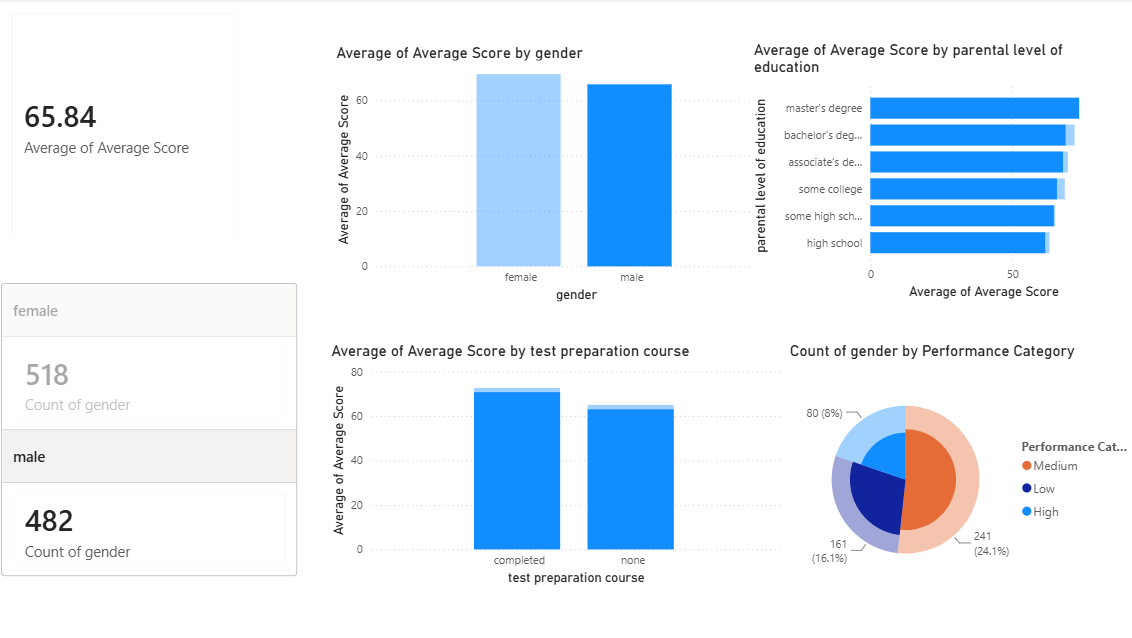

The dashboard page shown, as its layout file describes it:
{"tool":"powerbi","page":{"name":"Page 1","canvas":[1280,720],"ordinal":0},"visuals":[{"type":"cardVisual","fields":{"Data":["Avg(StudentsPerformance.Average Score)"]},"box":[10,0,280,280],"z":0},{"type":"cardVisual","fields":{"Rows":["StudentsPerformance.gender"],"Data":["CountNonNull(StudentsPerformance.gender)"]},"box":[9.6,289.4,336.3,374.9],"z":1},{"type":"clusteredColumnChart","fields":{"Category":["StudentsPerformance.gender"],"Y":["Avg(StudentsPerformance.Average Score)"]},"box":[378.4,49.8,495,290.2],"z":2},{"type":"clusteredColumnChart","fields":{"Category":["StudentsPerformance.test preparation course"],"Y":["Avg(StudentsPerformance.Average Score)"]},"box":[373.5,379,505.8,272.9],"z":3},{"type":"clusteredBarChart","fields":{"Category":["StudentsPerformance.parental level of education"],"Y":["Avg(StudentsPerformance.Average Score)"]},"box":[839,46.8,396.1,290.1],"z":4},{"type":"pieChart","fields":{"Category":["StudentsPerformance.Performance Category"],"Y":["CountNonNull(StudentsPerformance.gender)"]},"box":[879.2,379,383.1,285.3],"z":5}]}

Visuals, with their boxes in screenshot pixels (x1, y1, x2, y2), scaled from the page's 1280x720 canvas onto the 1132x638 screenshot:
cardVisual - Avg(StudentsPerformance.Average Score): BBox(9, 0, 256, 248)
cardVisual - StudentsPerformance.gender x CountNonNull(StudentsPerformance.gender): BBox(8, 256, 306, 589)
clusteredColumnChart - StudentsPerformance.gender x Avg(StudentsPerformance.Average Score): BBox(335, 44, 772, 301)
clusteredColumnChart - StudentsPerformance.test preparation course x Avg(StudentsPerformance.Average Score): BBox(330, 336, 778, 578)
clusteredBarChart - StudentsPerformance.parental level of education x Avg(StudentsPerformance.Average Score): BBox(742, 41, 1092, 299)
pieChart - StudentsPerformance.Performance Category x CountNonNull(StudentsPerformance.gender): BBox(778, 336, 1116, 589)
